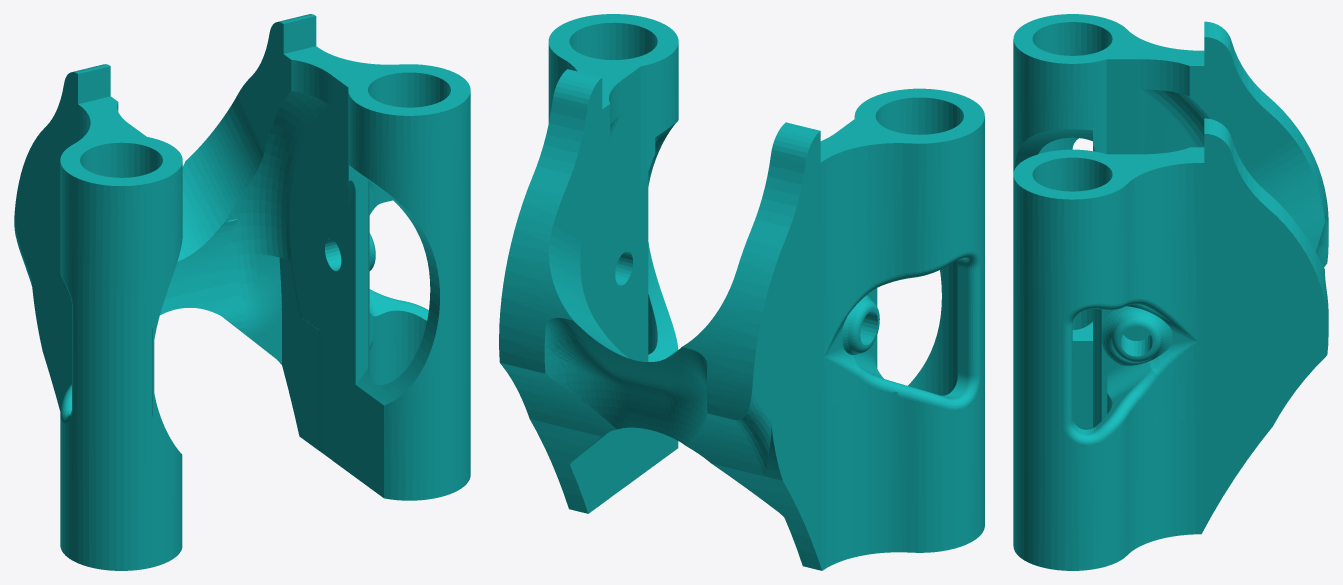
Rendered from switchback camera mount.fbx.
The picture shows the model from 3 angles, left to right: view 1: azimuth 30°, elevation 25°; view 2: azimuth 150°, elevation 25°; view 3: azimuth 270°, elevation 25°; orthographic projection. The views are drawn at different scales.
Parts seen in each view (by area): view 1: switchback camera mount; view 2: switchback camera mount; view 3: switchback camera mount.
Part boxes in pixels (bbox=[...]): switchback camera mount: bbox=[14, 14, 470, 570]; switchback camera mount: bbox=[499, 14, 984, 570]; switchback camera mount: bbox=[1013, 14, 1328, 570].
Size of the model in its own units: 27.37 by 27.54 by 19.65.
